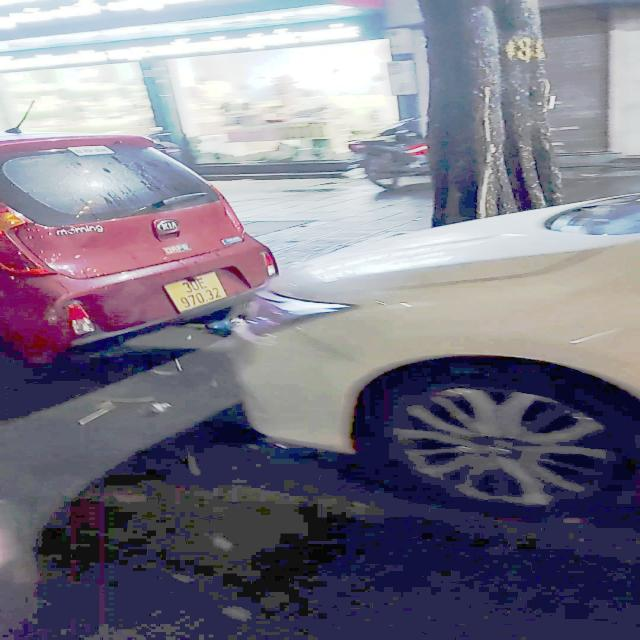license_plate: (164, 272, 230, 314)
